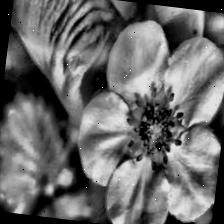Blossom Blight: (118, 78, 194, 174)
